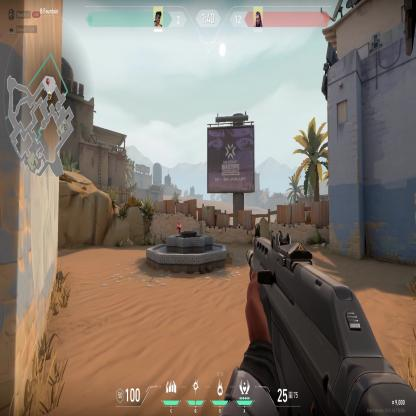enemy: (176, 218, 182, 234)
